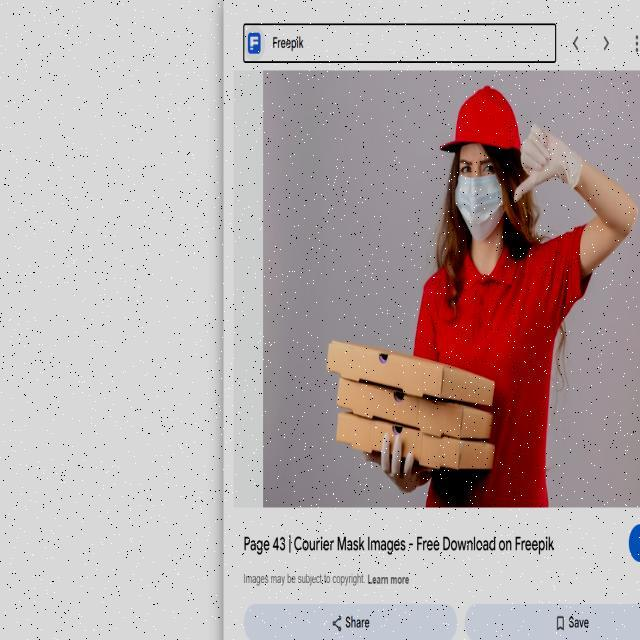face_mask: (454, 143, 506, 253)
